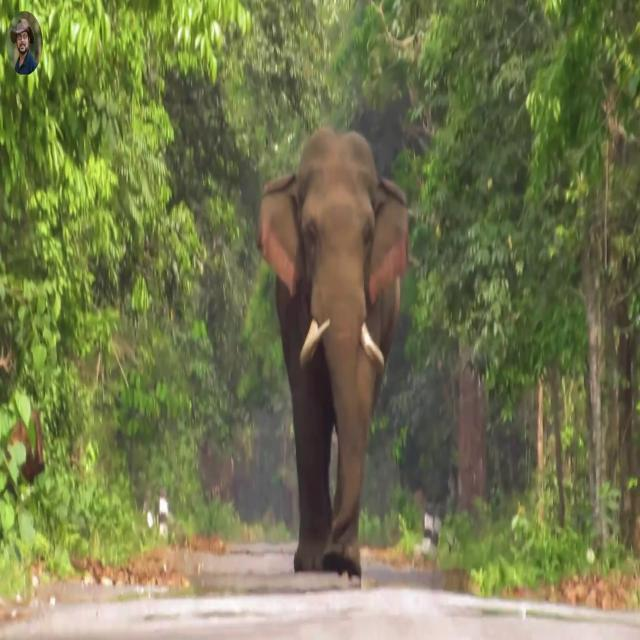Elephant: (256, 125, 411, 586)
